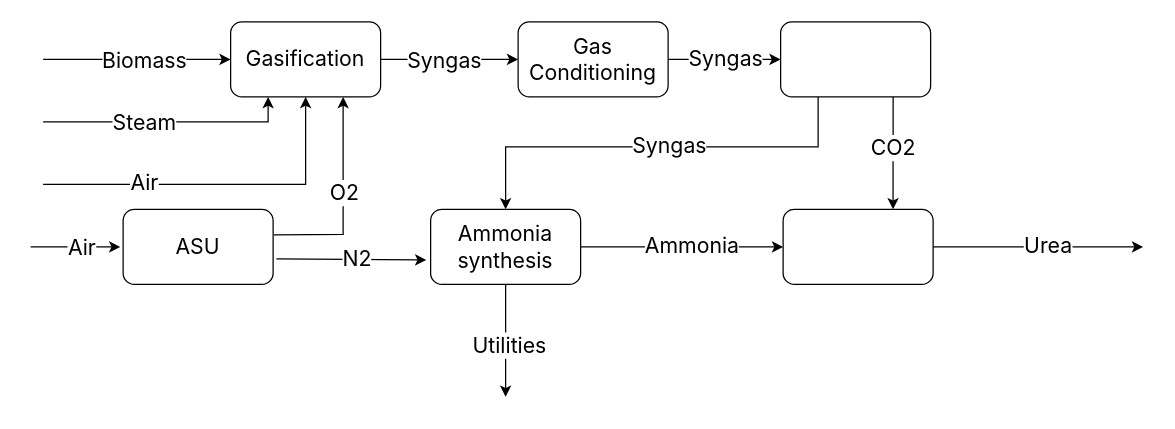
Image size: 1175x429. Some labels were removed from this diagram. The centre of each missing label's shape, as x and y in pixels:
"CCS" belongs at (855,59).
"Urea synthesis" belongs at (857,246).
